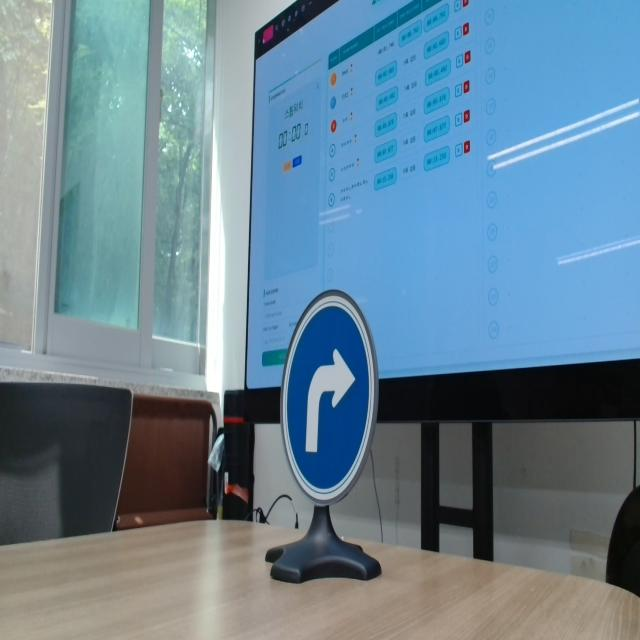right_dierection: (272, 290, 386, 516)
